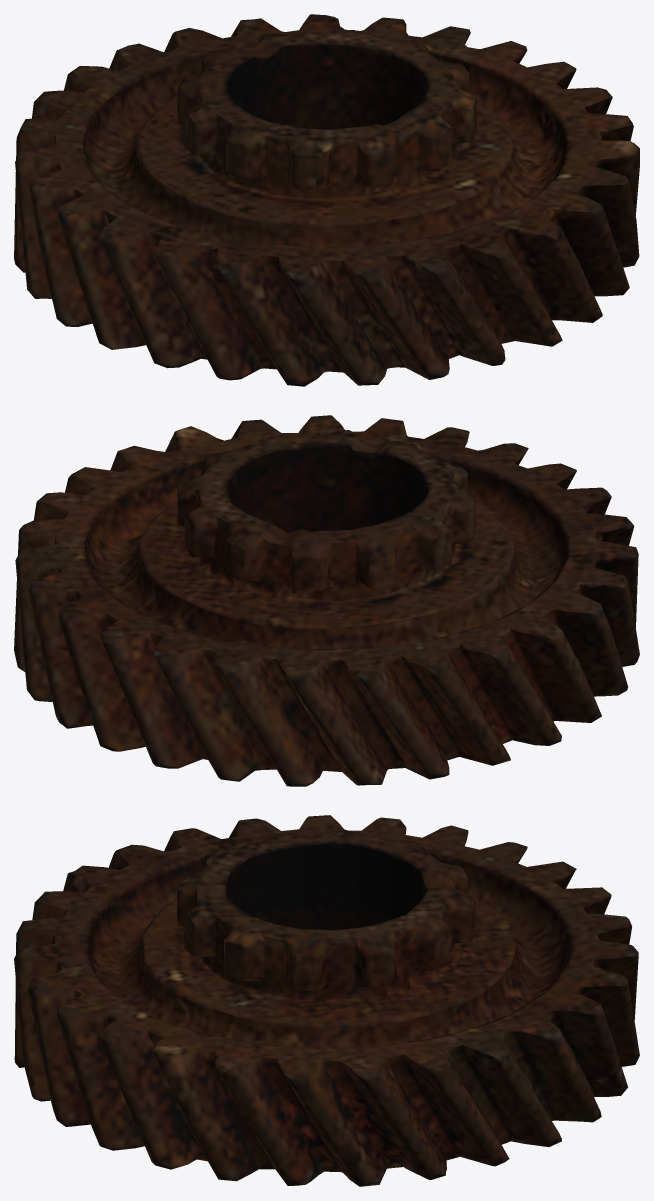
The model's file is SM_Ind_Jun_Gear_Metal_Rusty_02.gltf.
3 renders of one model, top to bottom at view 1: azimuth 30°, elevation 25°; view 2: azimuth 150°, elevation 25°; view 3: azimuth 270°, elevation 25°, orthographic.
Parts seen in each view (by area): view 1: SM_Ind_Jun_Gear_Metal_Rusty_02; view 2: SM_Ind_Jun_Gear_Metal_Rusty_02; view 3: SM_Ind_Jun_Gear_Metal_Rusty_02.
Boxes of the visible parts, x1=… form: SM_Ind_Jun_Gear_Metal_Rusty_02: x1=14, y1=14, x2=639, y2=386; SM_Ind_Jun_Gear_Metal_Rusty_02: x1=14, y1=415, x2=639, y2=786; SM_Ind_Jun_Gear_Metal_Rusty_02: x1=14, y1=815, x2=639, y2=1186.
Size of the model in its own units: 0.1259 by 0.0384 by 0.126.
Materials: 1 (1 with a texture image).
